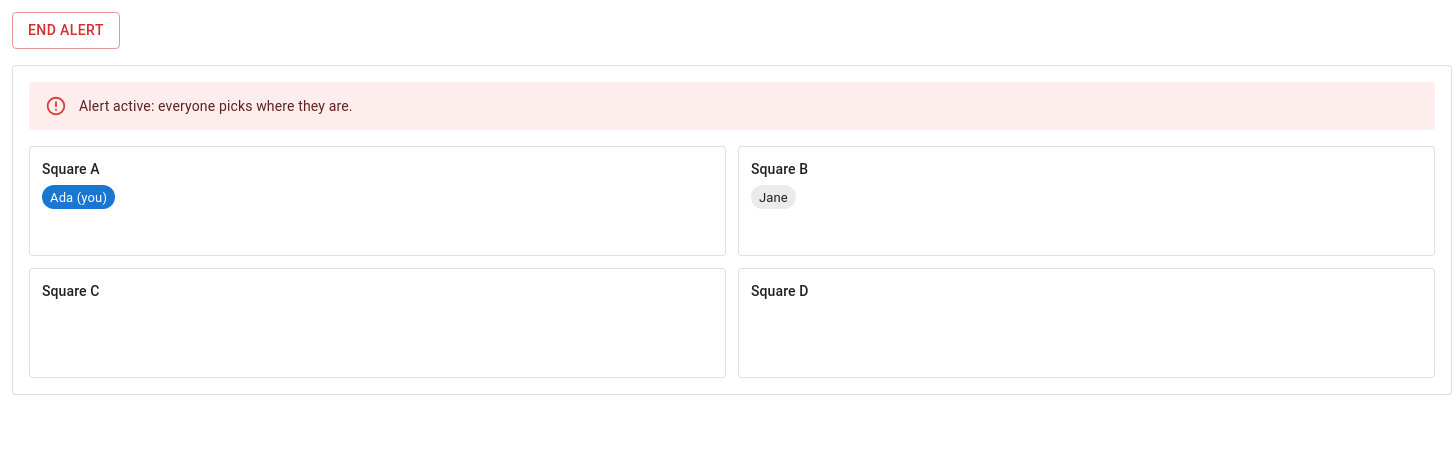
Scenario: AlertSection › shows the ended board when an administrator ends an alert somebody else already ended
The image size is (1452, 476).
Step 1. Click the button "End alert" → (66, 30), box [12, 12, 120, 48]
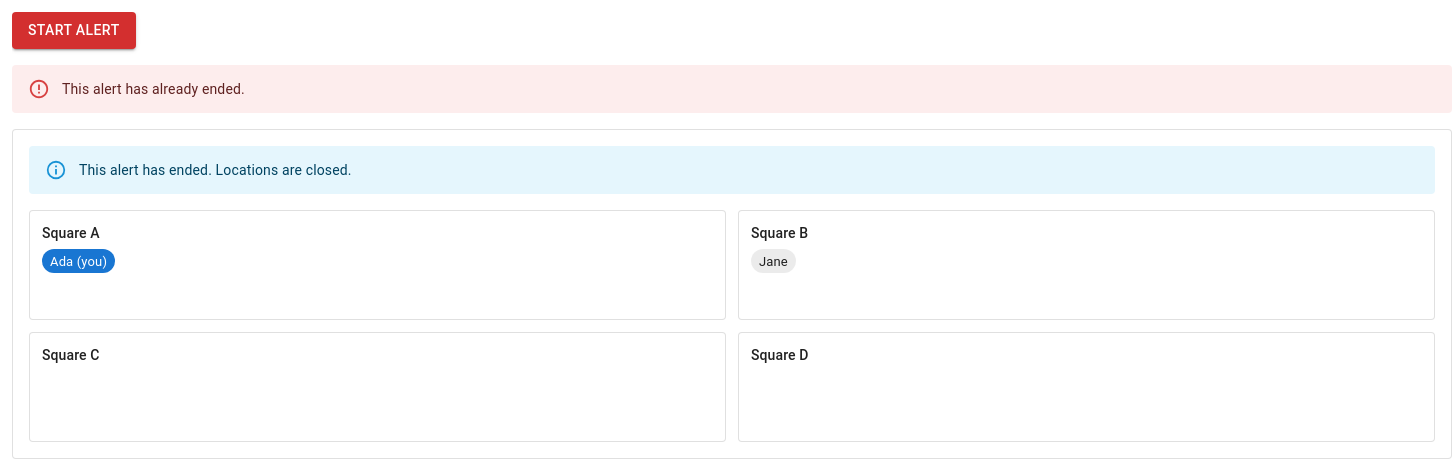
Expected: the text "Jane" is shown, [759, 254, 788, 269]
Expected: the button "End alert" is gone
Expected: the text "This alert has ended. Locations are closed." is shown, [79, 162, 352, 178]
